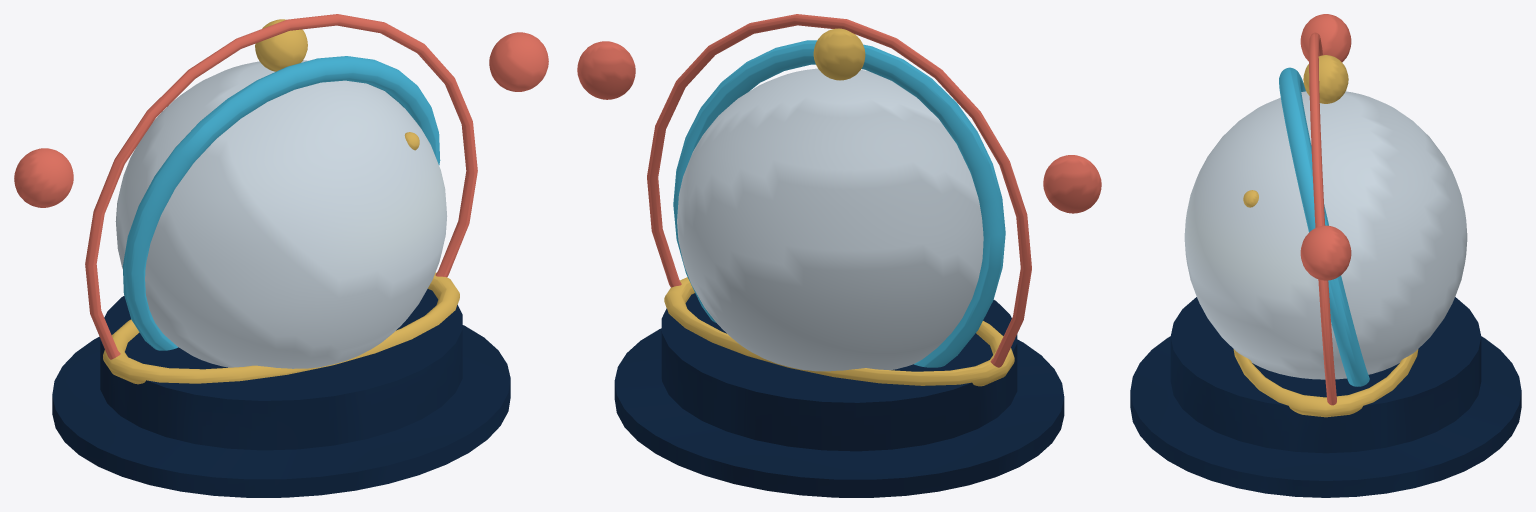
File: 0045_天文图鉴_海王星.glb
The picture shows the model from 3 angles, left to right: view 1: azimuth 30°, elevation 25°; view 2: azimuth 150°, elevation 25°; view 3: azimuth 270°, elevation 25°; orthographic projection. The views are drawn at different scales.
Visible parts, largest first — view 1: card_0045; view 2: card_0045; view 3: card_0045.
Part boxes in pixels (x1=…): card_0045: x1=14, y1=14, x2=548, y2=497; card_0045: x1=577, y1=14, x2=1101, y2=497; card_0045: x1=1130, y1=14, x2=1521, y2=497.
Bounding box in the file's own units: 1.36 × 1 × 0.9598.
